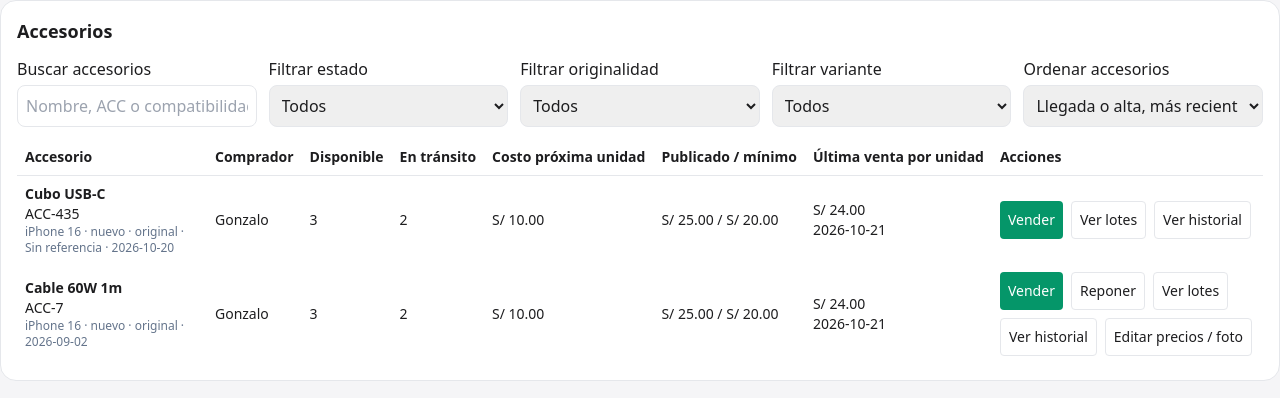
Test: incluye lotes sin referencia y los ordena con los demás por llegada o alta
This screenshot has width=1280, height=398.
Expected: the text "ACC-435" is shown, x1=25 y1=204 x2=80 y2=223
Select "Llegada o alta, más antiguas" in the dropdown labelled "Ordenar accesorios". click: (1143, 106)
box: x1=1023 y1=85 x2=1263 y2=127
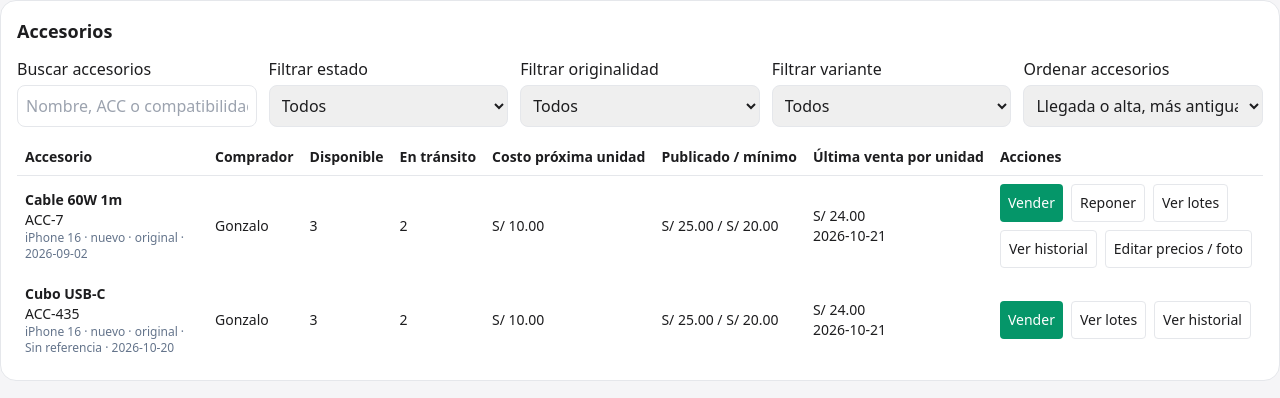
Type "ACC-435" into the field labelled "Buscar accesorios". click: (137, 106)
box: x1=17 y1=85 x2=257 y2=127
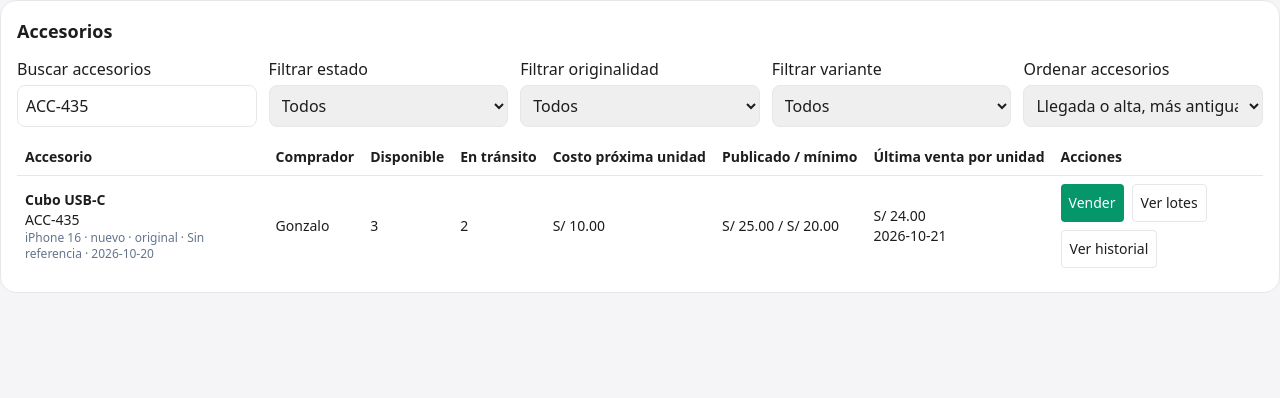
Now the button "Reponer" is gone
